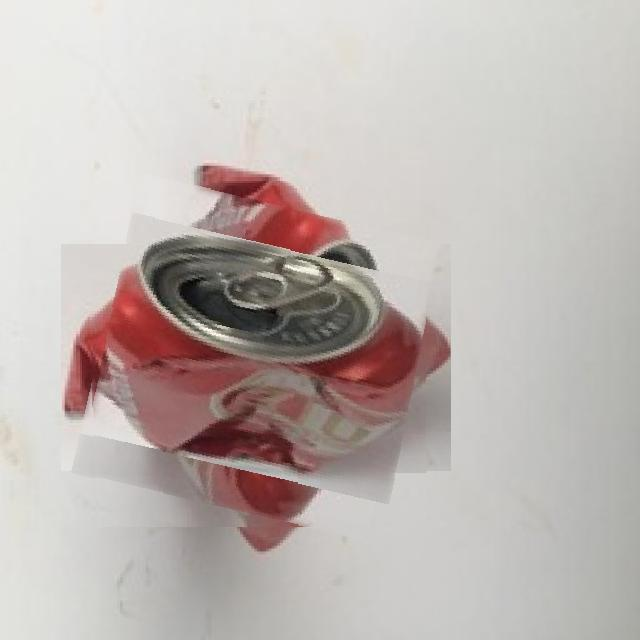recyclable: (86, 188, 426, 527)
